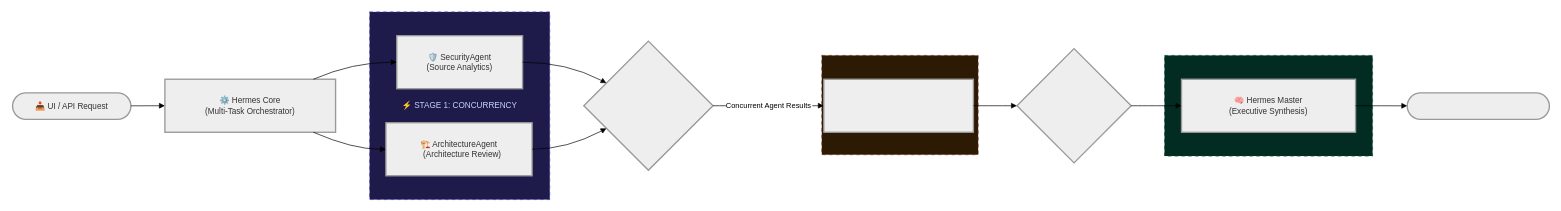
Some shapes in this 1561 by 211 pixel diagram are drawn without their labels. The shapes that lost their labels are listed below. From the top down, each one's centre as x and y in pixels, then its label:
At point 648,105: "🔀 asyncio.gather".
At point 898,105: "🗺️ PlanningAgent (Engineering Planning)".
At point 1074,105: "📄 Planning Results".
At point 1478,106: "💾 Structured Engineering Analysis".
